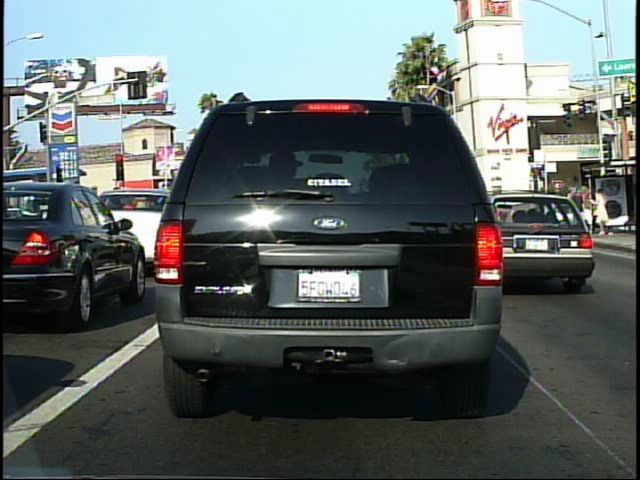person: (590, 185, 614, 237), (569, 183, 589, 239)
